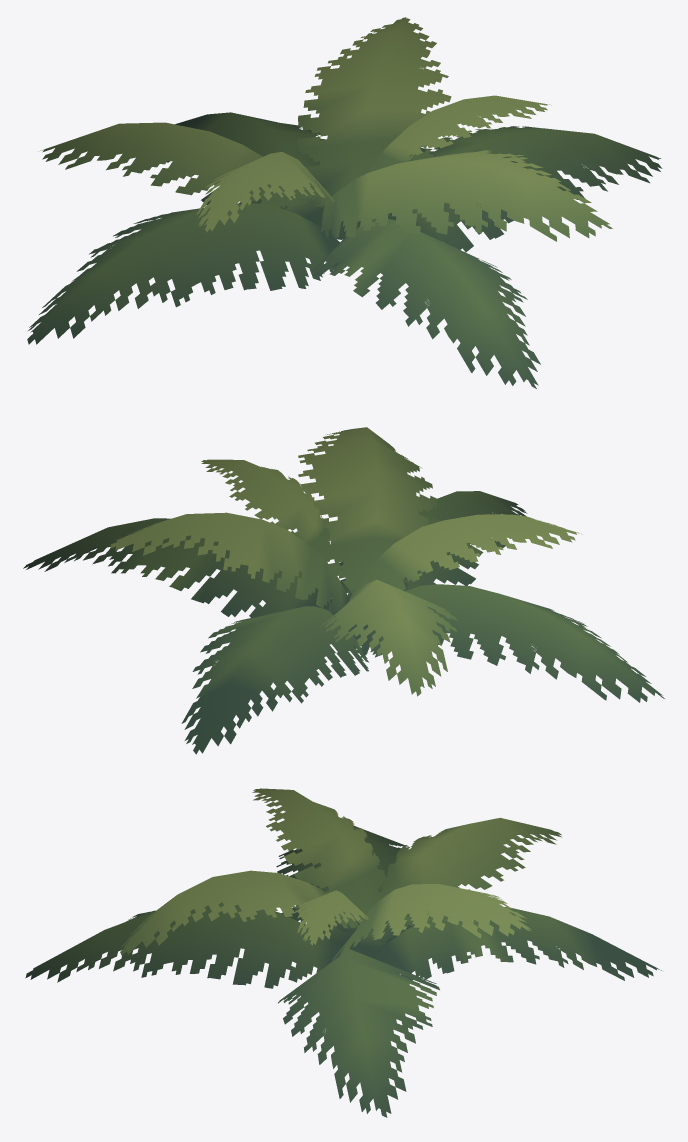
The model's file is fern-arching-fronds.glb.
The picture shows the model from 3 angles, top to bottom: view 1: azimuth 30°, elevation 25°; view 2: azimuth 150°, elevation 25°; view 3: azimuth 270°, elevation 25°; orthographic projection. The views are drawn at different scales.
Parts seen in each view (by area): view 1: fern-arching-fronds runtime mesh; view 2: fern-arching-fronds runtime mesh; view 3: fern-arching-fronds runtime mesh.
Boxes of the visible parts, <box> form: fern-arching-fronds runtime mesh: <box>27,17,662,388</box>; fern-arching-fronds runtime mesh: <box>23,427,664,754</box>; fern-arching-fronds runtime mesh: <box>25,788,661,1117</box>.
Bounding box in the file's own units: 2.54 × 0.5374 × 2.38.
1 material, 1 textured.
